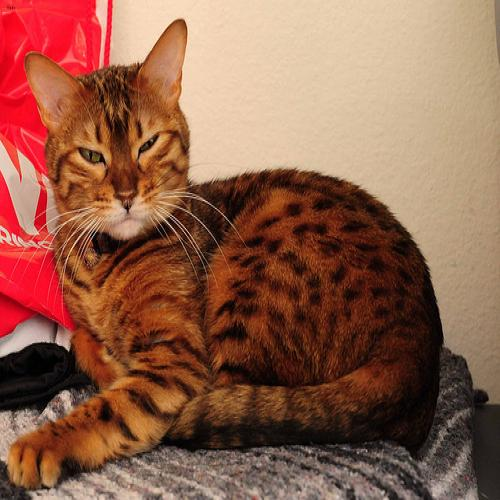bengal: (16, 12, 211, 252)
